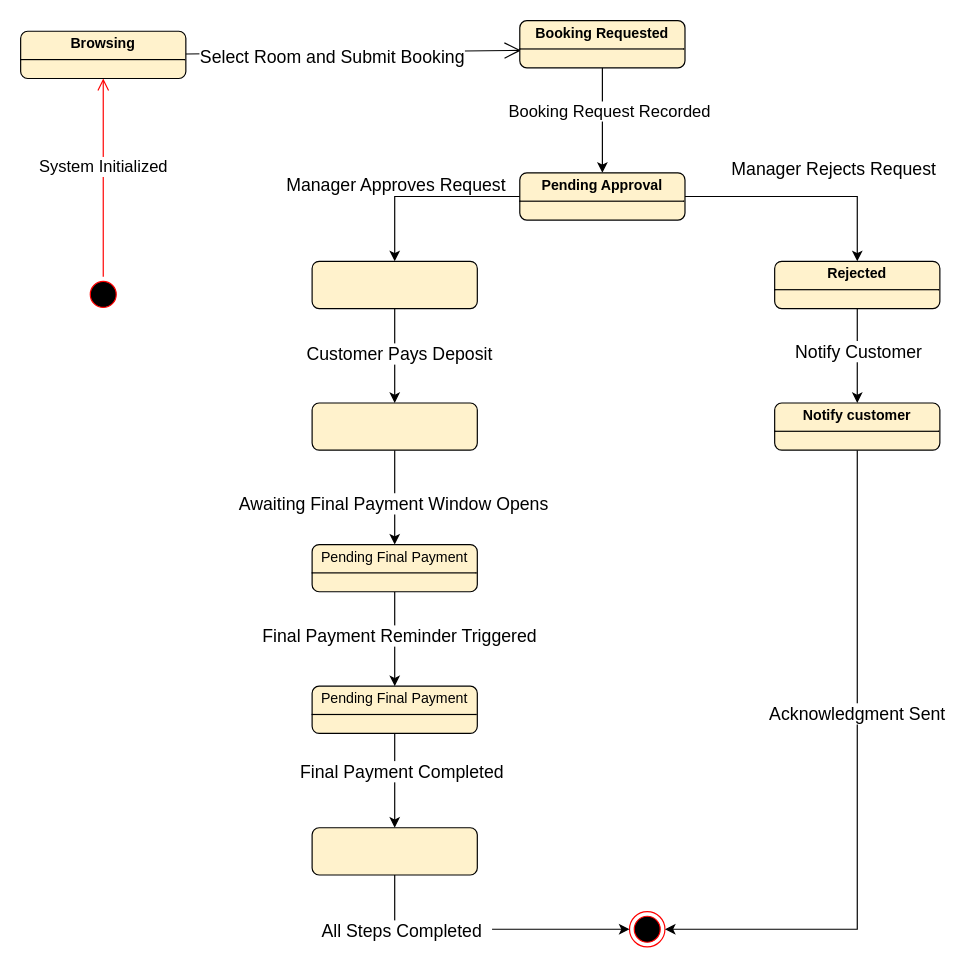
This 970x968 diagram has some shape labels left out. The shapes that lost their labels are listed below. From the top down, each one's centre as x and y in pixels, then its label:
(x=394, y=284): Approval
(x=394, y=426): Deposit Paid
(x=394, y=851): Booking Confirmed
